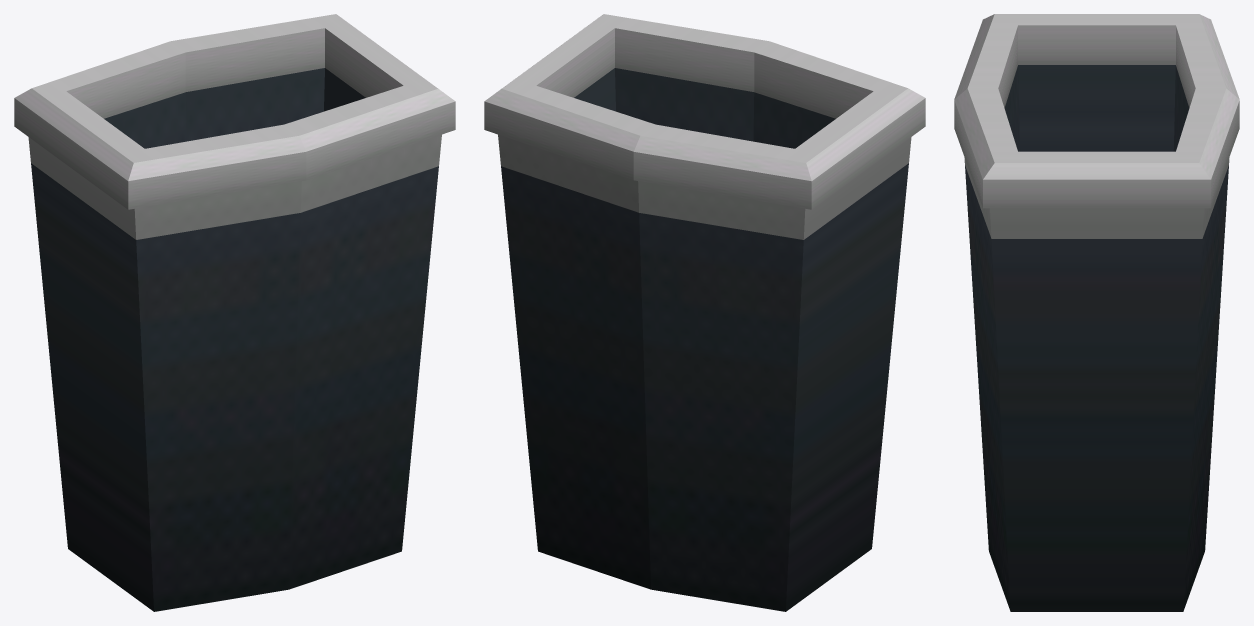
The model's file is waste_bin.glb.
3 renders of one model, left to right at view 1: azimuth 30°, elevation 25°; view 2: azimuth 150°, elevation 25°; view 3: azimuth 270°, elevation 25°, orthographic.
Visible parts, largest first — view 1: Cube_001_2; view 2: Cube_001_2; view 3: Cube_001_2.
Boxes of the visible parts, box(x1,y1,x2,y2) form: Cube_001_2: box(14, 14, 455, 611); Cube_001_2: box(484, 14, 925, 611); Cube_001_2: box(954, 14, 1239, 611).
Size of the model in its own units: 2.13 by 2.87 by 1.6.
1 material, 1 textured.
